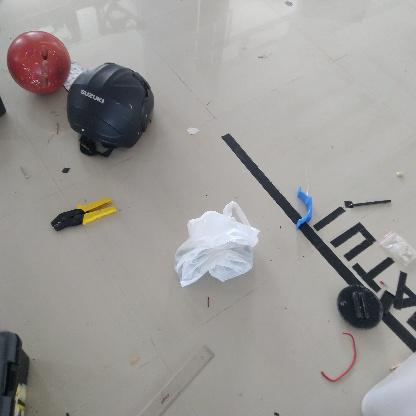red_buoy: (5, 31, 72, 96)
